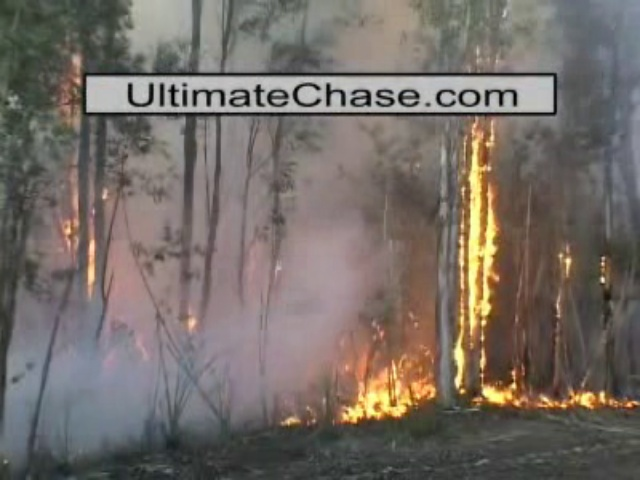fire: (450, 121, 515, 407), (344, 375, 413, 422)
